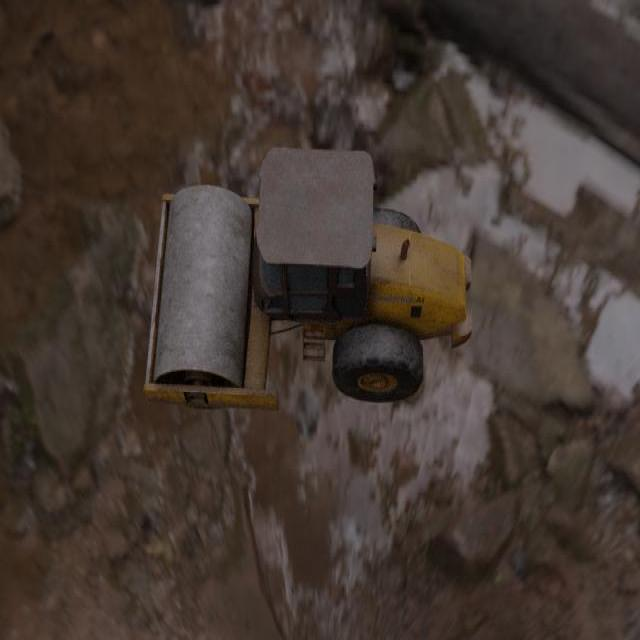Roller: (143, 145, 472, 411)
